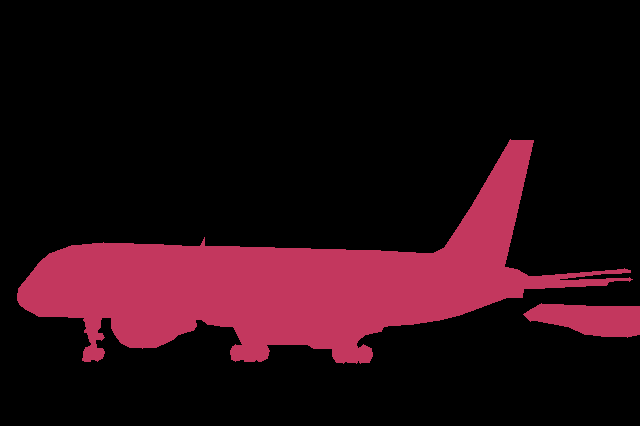Airplane: (17, 139, 633, 364), (523, 303, 640, 338)
